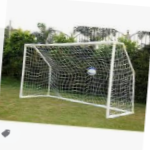goals: (19, 39, 136, 118)
